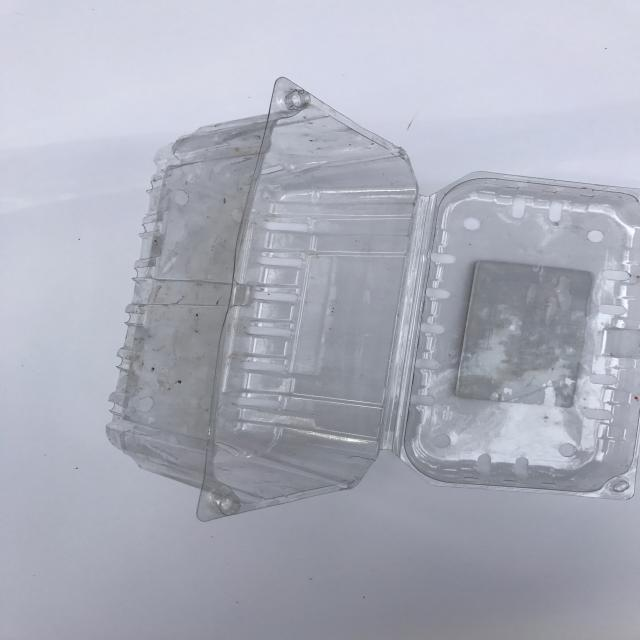Plastic: (101, 66, 640, 532)
